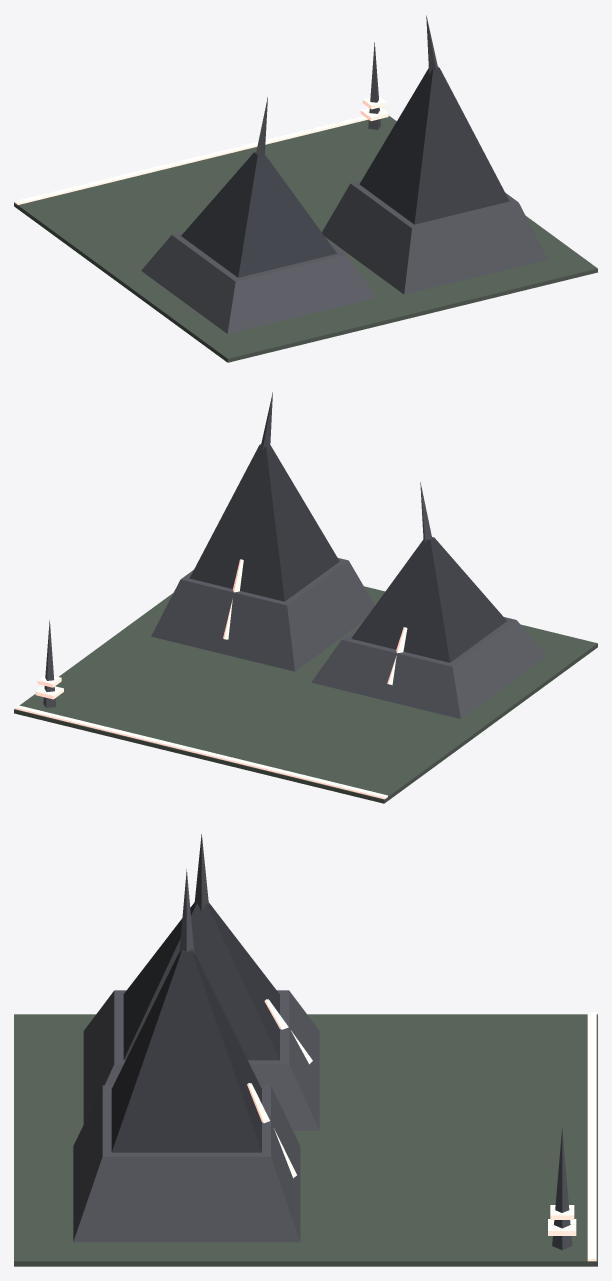
Rendered from zone_low_1_t2.glb.
3 views of the same model, one above another, from view 1: azimuth 30°, elevation 25°; view 2: azimuth 150°, elevation 25°; view 3: azimuth 270°, elevation 25° (orthographic). The views are drawn at different scales.
Parts seen in each view (by area): view 1: zone_low_1_t2, detail; view 2: zone_low_1_t2, detail; view 3: zone_low_1_t2, detail.
Boxes of the visible parts, <box> form: zone_low_1_t2: <box>14,15,597,362</box>; detail: <box>14,42,388,204</box>; zone_low_1_t2: <box>14,392,597,803</box>; detail: <box>14,620,387,799</box>; zone_low_1_t2: <box>14,834,597,1266</box>; detail: <box>548,1012,596,1261</box>.
Bounding box in the file's own units: 19.6 × 12.07 × 19.6.
